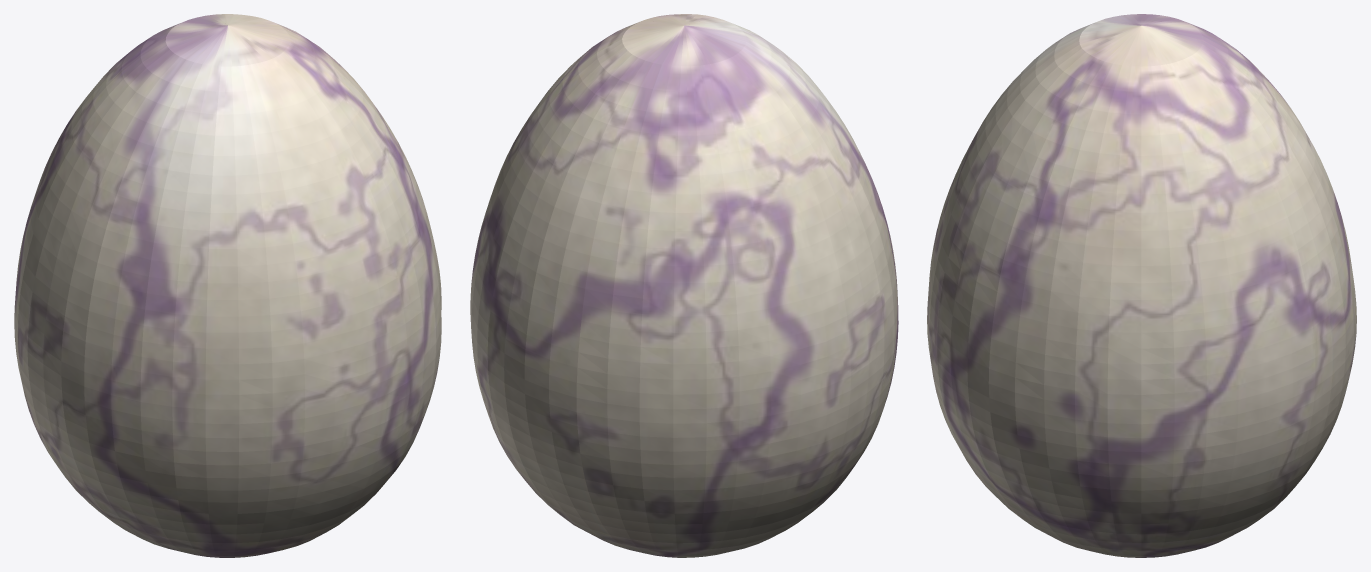
Rendered from ovo_v02.glb.
3 renders of one model, left to right at view 1: azimuth 30°, elevation 25°; view 2: azimuth 150°, elevation 25°; view 3: azimuth 270°, elevation 25°, orthographic.
Visible parts, largest first — view 1: ovo; view 2: ovo; view 3: ovo.
Part boxes in pixels (bbox=[...]): ovo: bbox=[14, 14, 441, 557]; ovo: bbox=[470, 14, 898, 557]; ovo: bbox=[927, 14, 1356, 557].
Size of the model in its own units: 0.2718 by 0.36 by 0.2731.
Materials: 1 (1 with a texture image).
